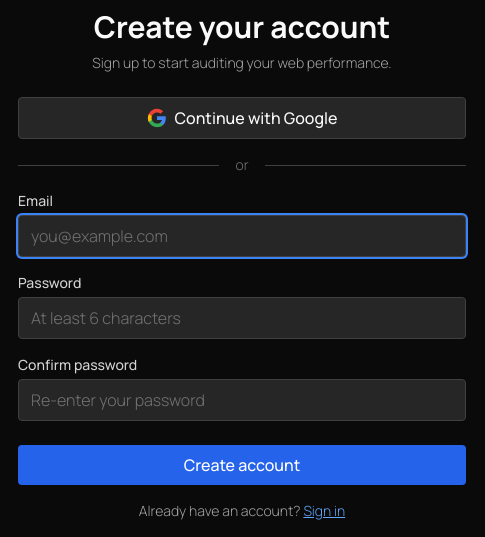
P-PERF-138-001: New user creates account and redirects to /verify-email › shows success state before redirect
Type "new@example.com" into the field with test id "signup-email-input" at (242, 236), box [18,215,466,257]
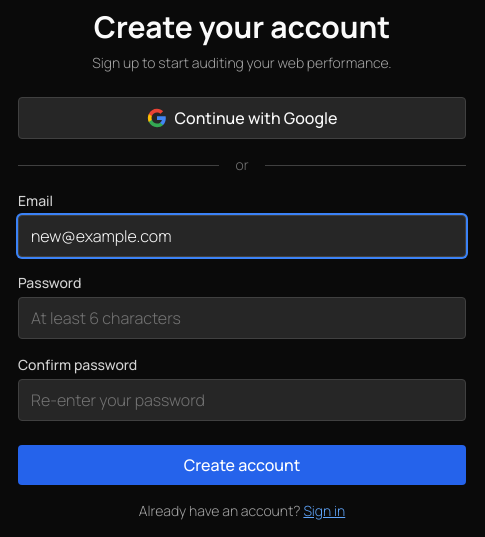
Type "password123" into the password field with test id "signup-password-input" at (242, 318), box [18,297,466,339]
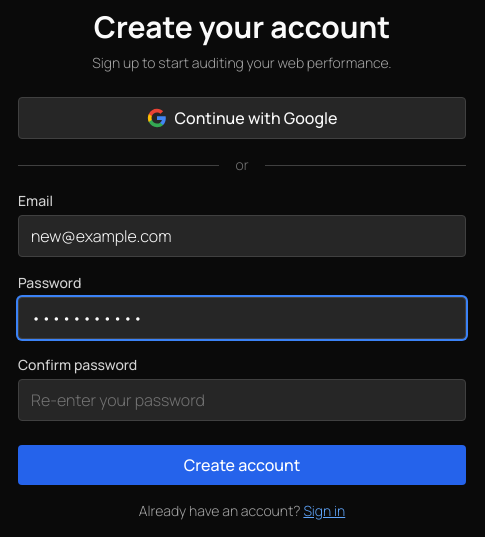
Type "password123" into the password field with test id "signup-confirm-input" at (242, 400), box [18,379,466,421]
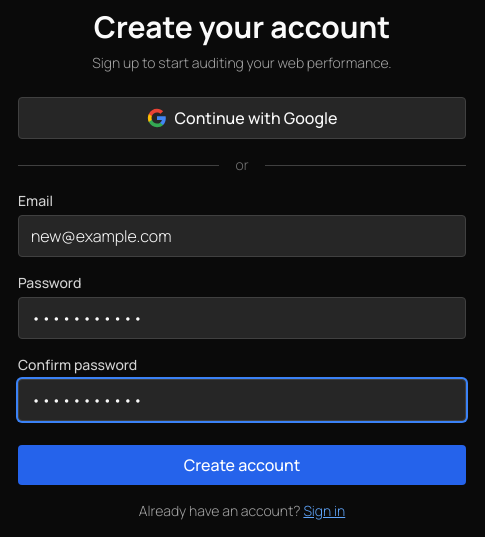
Click the button with test id "signup-submit" at (242, 465), box [18,445,466,485]
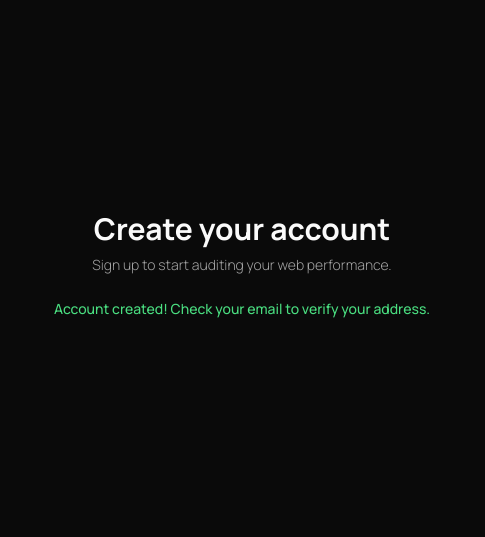
expect the message "Account created! Check your email to verify your address." is shown: met, box [54,299,430,318]
expect the text "Account created! Check your email to verify your address." is shown: met, box [54,299,430,319]
